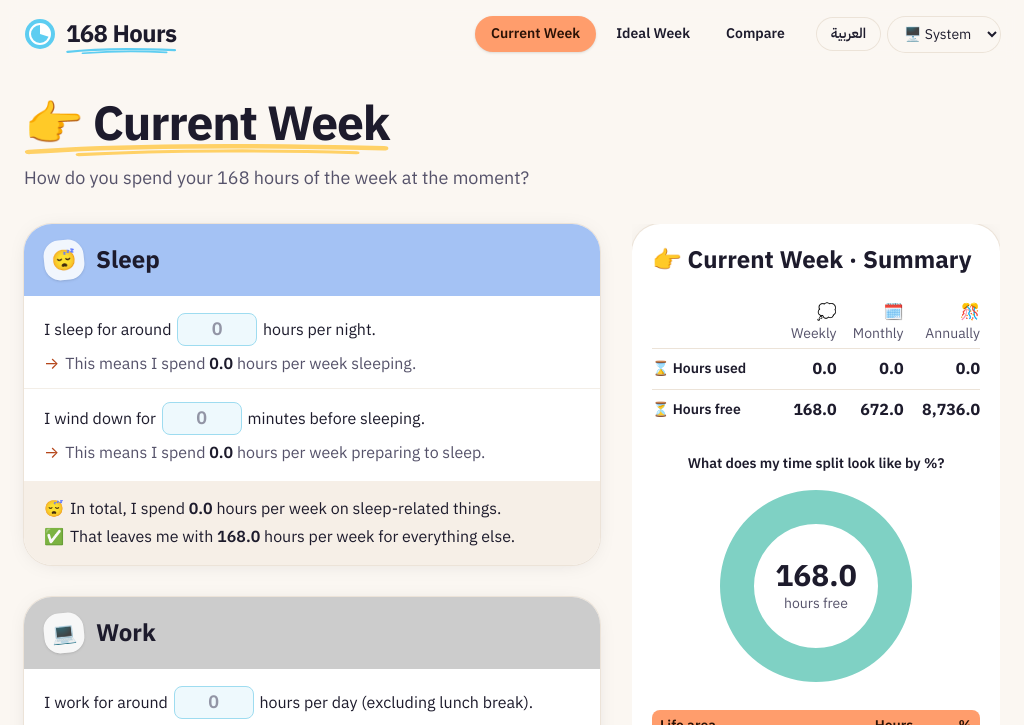
it: week form › clamps work days to 7 and explains why
Type "8" into the field labelled "I work for around hours per day (excluding lunch break).". click: (214, 702)
box: [174,686,254,718]
(page scrolled)
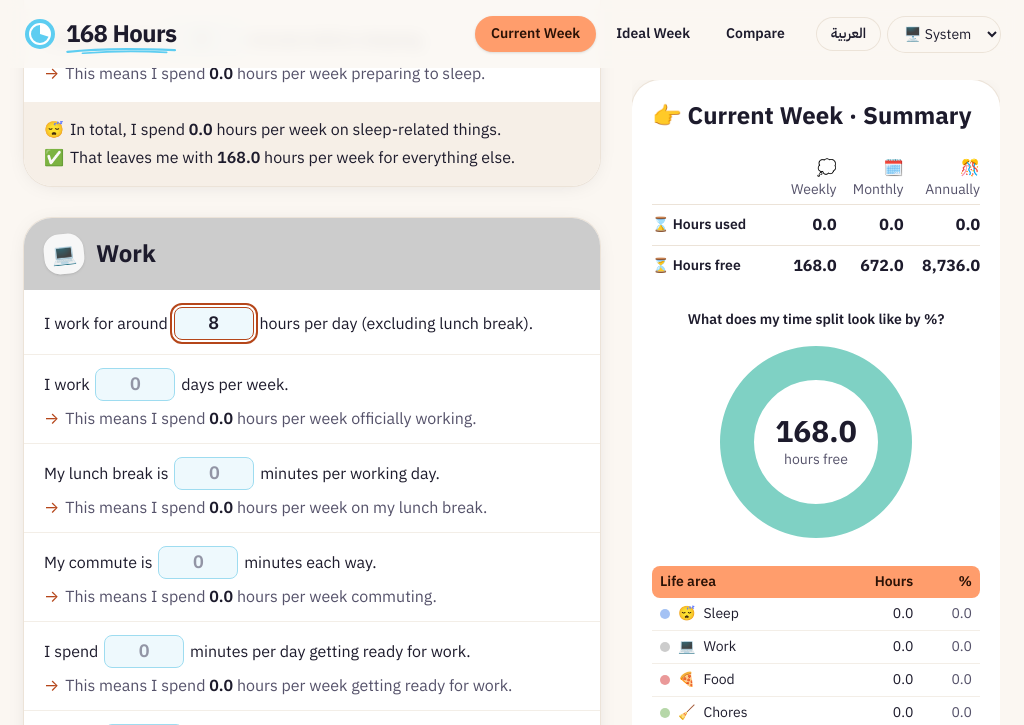
Type "9" into the field labelled "I work days per week.". click: (135, 384)
box: [95,368,175,400]
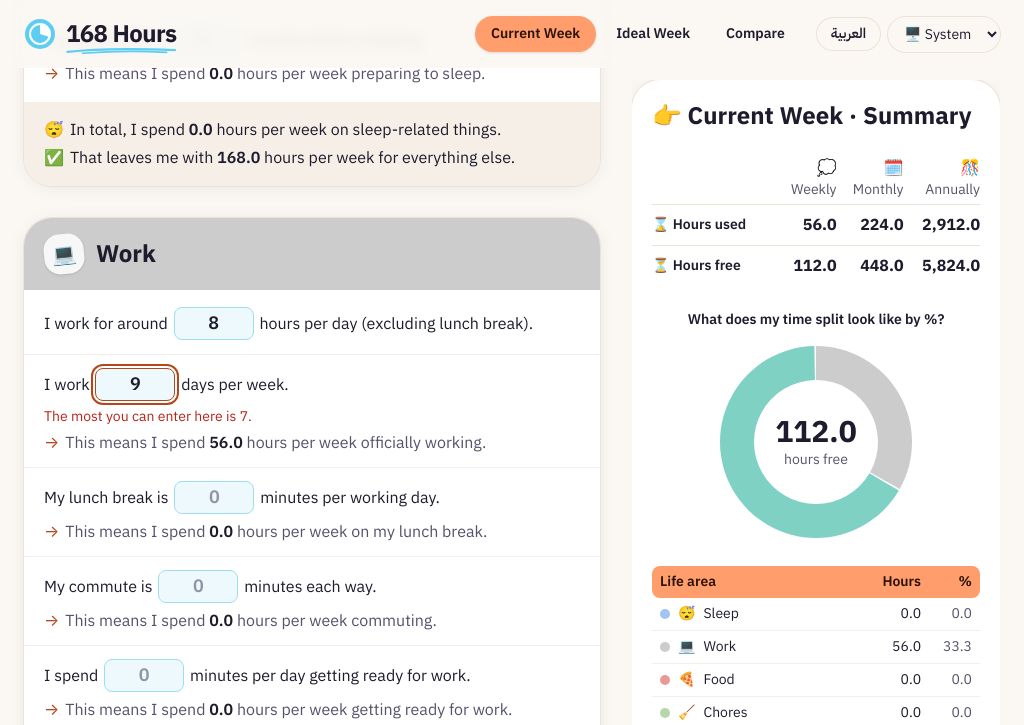
Result: the text "→This means I spend 56.0 hours per week officially working." is shown at [44,431,486,455]
Result: the text "The most you can enter here is 7." is shown at [44,406,252,427]
